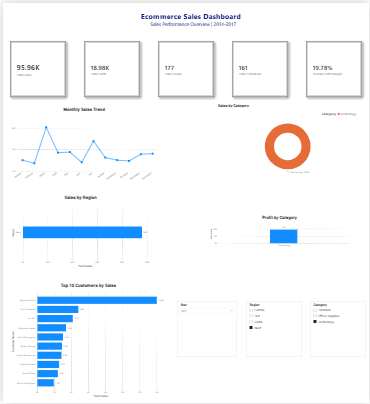

The page's visual inventory and layout, read from the dashboard file:
{"tool":"powerbi","page":{"name":"Page 1","canvas":[1830,1800],"ordinal":0},"visuals":[{"type":"cardVisual","fields":{"Data":["superstore_cleaned.Total Sales"]},"box":[34,188,280,280],"z":0},{"type":"cardVisual","fields":{"Data":["superstore_cleaned.Total Profit"]},"box":[404.5,188,280,280],"z":1},{"type":"cardVisual","fields":{"Data":["superstore_cleaned.Total Orders"]},"box":[775,188,280,280],"z":2},{"type":"cardVisual","fields":{"Data":["superstore_cleaned.Total Customers"]},"box":[1145.5,188,280,280],"z":3},{"type":"cardVisual","fields":{"Data":["superstore_cleaned.Overall Profit Margin"]},"box":[1516,188,280,280],"z":4},{"type":"lineChart","title":"Monthly Sales Trend","fields":{"Y":["superstore_cleaned.Total Sales"],"Category":["superstore_cleaned.Month Name"]},"box":[34,518,644,352],"z":5},{"type":"donutChart","title":"Sales by Category","fields":{"Category":["superstore_cleaned.Category"],"Y":["superstore_cleaned.Total Sales"]},"box":[1068,500,707,369],"z":6},{"type":"clusteredBarChart","title":"Sales by Region","fields":{"Category":["superstore_cleaned.Region"],"Y":["superstore_cleaned.Total Sales"]},"box":[34,962,707,369],"z":7},{"type":"clusteredColumnChart","title":"Profit by Category","fields":{"Category":["superstore_cleaned.Category"],"Y":["superstore_cleaned.Total Profit"]},"box":[1028,1060,707,171],"z":8},{"type":"clusteredBarChart","title":"Top 10 Customers by Sales","fields":{"Category":["superstore_cleaned.Customer Name"],"Y":["superstore_cleaned.Total Sales"]},"box":[34,1400,707,369],"z":9},{"type":"slicer","fields":{"Values":["superstore_cleaned.Year"]},"box":[888,1490,280,280],"z":10},{"type":"slicer","fields":{"Values":["superstore_cleaned.Region"]},"box":[1216,1490,280,280],"z":11},{"type":"slicer","fields":{"Values":["superstore_cleaned.Category"]},"box":[1534,1490,276,280],"z":12},{"type":"textbox","box":[684,0,532,188],"z":13}]}

Visuals, with their boxes in screenshot pixels (x1, y1, x2, y2):
cardVisual - superstore_cleaned.Total Sales: [10, 41, 66, 97]
cardVisual - superstore_cleaned.Total Profit: [84, 41, 140, 97]
cardVisual - superstore_cleaned.Total Orders: [158, 41, 214, 97]
cardVisual - superstore_cleaned.Total Customers: [232, 41, 288, 97]
cardVisual - superstore_cleaned.Overall Profit Margin: [306, 41, 362, 97]
"Monthly Sales Trend" lineChart: [10, 107, 138, 177]
"Sales by Category" donutChart: [216, 103, 357, 177]
"Sales by Region" clusteredBarChart: [10, 195, 151, 269]
"Profit by Category" clusteredColumnChart: [208, 215, 349, 249]
"Top 10 Customers by Sales" clusteredBarChart: [10, 283, 151, 356]
slicer - superstore_cleaned.Year: [180, 301, 236, 356]
slicer - superstore_cleaned.Region: [246, 301, 302, 356]
slicer - superstore_cleaned.Category: [309, 301, 364, 356]
textbox: [140, 3, 246, 41]
